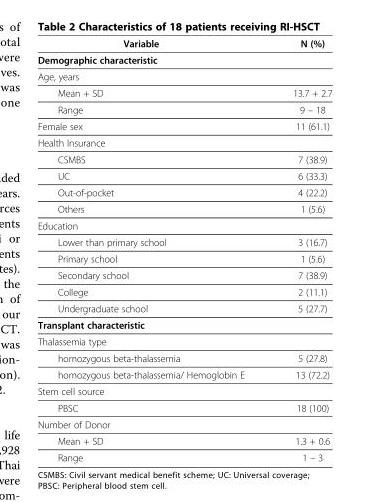table: (36, 37, 331, 462)
table column: (36, 37, 267, 462), (267, 37, 331, 462)
table column header: (36, 37, 331, 51)
table projected row header: (36, 67, 331, 84), (36, 332, 331, 349), (36, 382, 331, 399), (36, 415, 331, 432), (36, 51, 331, 67), (36, 134, 331, 150), (36, 217, 331, 233), (36, 316, 331, 332)
table row: (36, 67, 331, 84), (36, 84, 331, 101), (36, 117, 331, 134), (36, 150, 331, 167), (36, 183, 331, 200), (36, 200, 331, 217), (36, 233, 331, 250), (36, 266, 331, 283), (36, 299, 331, 316), (36, 332, 331, 349), (36, 349, 331, 366), (36, 382, 331, 399), (36, 415, 331, 432), (36, 51, 331, 67), (36, 101, 331, 117), (36, 134, 331, 150), (36, 167, 331, 183), (36, 217, 331, 233), (36, 250, 331, 266), (36, 283, 331, 299), (36, 316, 331, 332), (36, 366, 331, 382), (36, 399, 331, 415), (36, 432, 331, 448), (36, 37, 331, 51), (36, 448, 331, 462)
